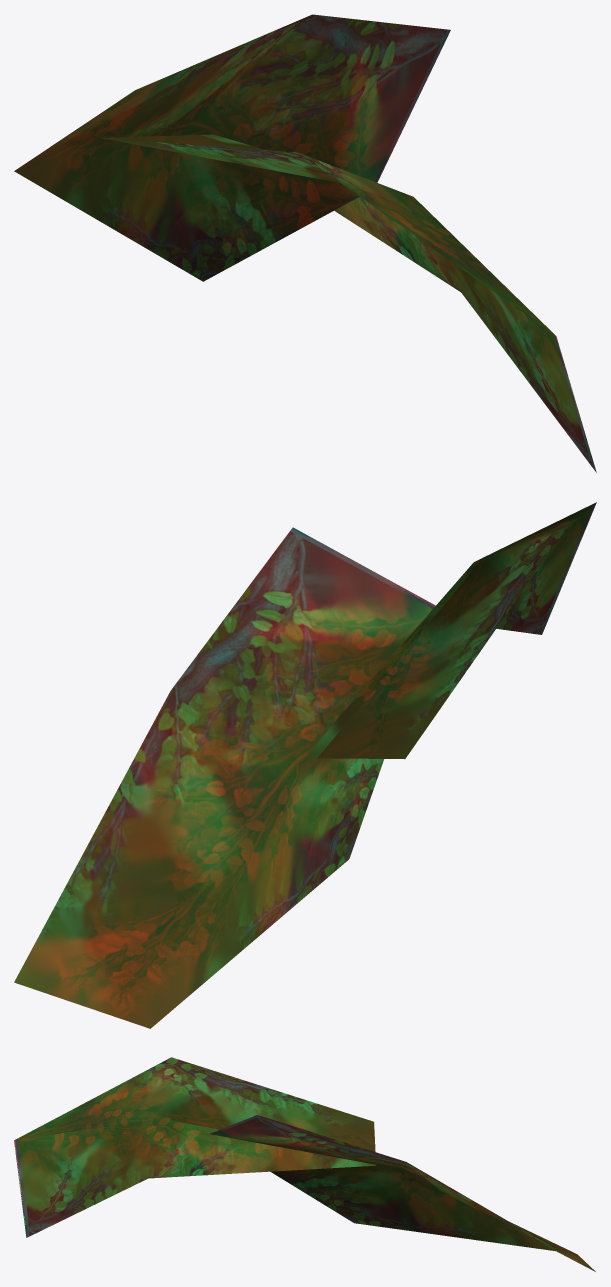
The model's file is Twiner_01_A.fbx.
3 renders of one model, top to bottom at view 1: azimuth 30°, elevation 25°; view 2: azimuth 150°, elevation 25°; view 3: azimuth 270°, elevation 25°, orthographic. The views are drawn at different scales.
Parts seen in each view (by area): view 1: Twiner_01_A; view 2: Twiner_01_A; view 3: Twiner_01_A.
Boxes of the visible parts, x1,y1,x2,y2 form: Twiner_01_A: [14, 14, 596, 472]; Twiner_01_A: [14, 502, 596, 1028]; Twiner_01_A: [14, 1057, 595, 1271].
Bounding box in the file's own units: 1.41 × 1.81 × 5.49.
